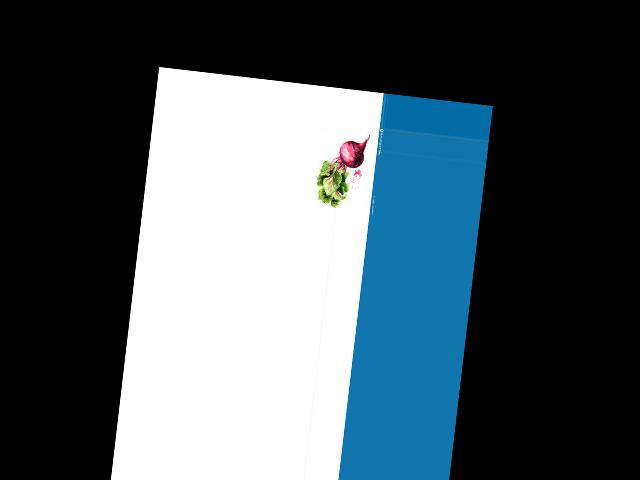beet: (314, 129, 370, 211)
